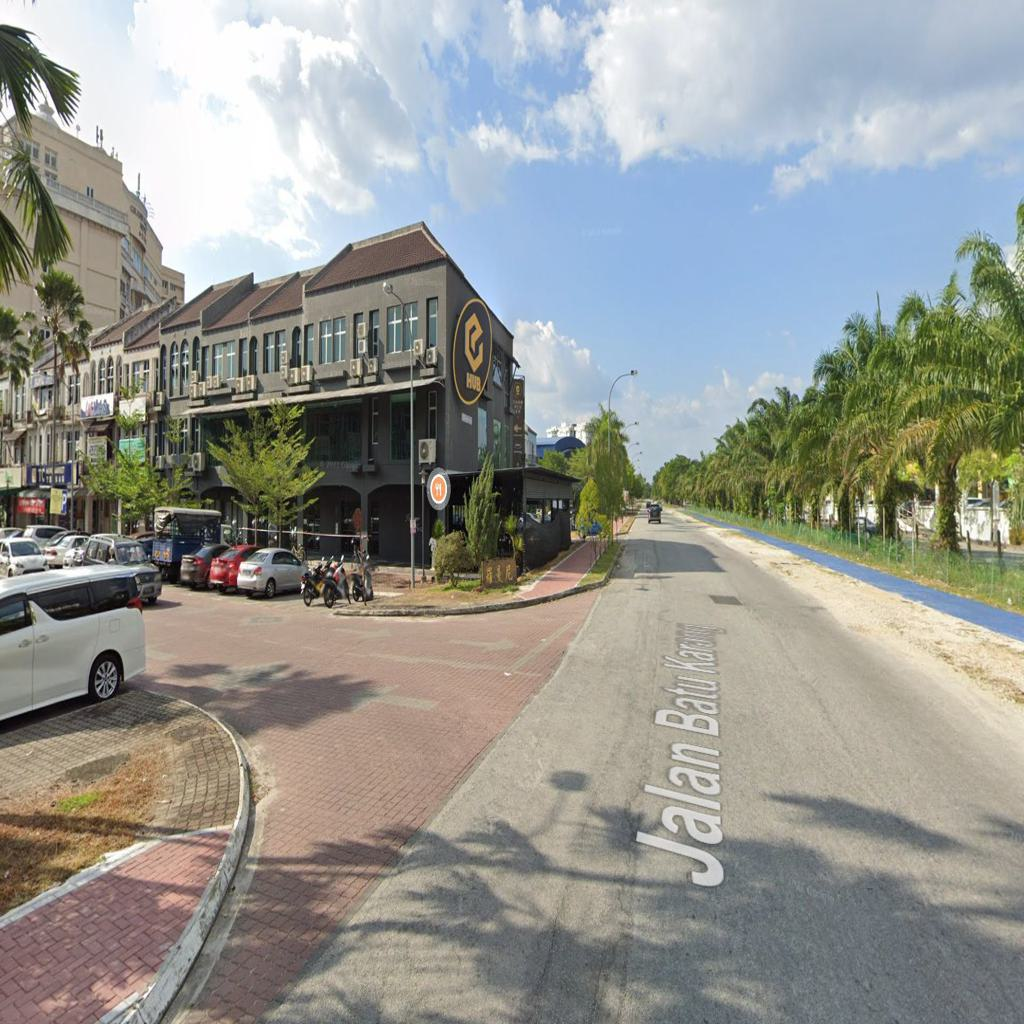Junction: (144, 591, 640, 936)
